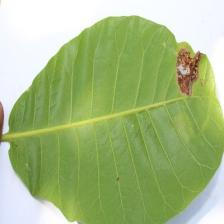leaf miner: (0, 14, 224, 224)
